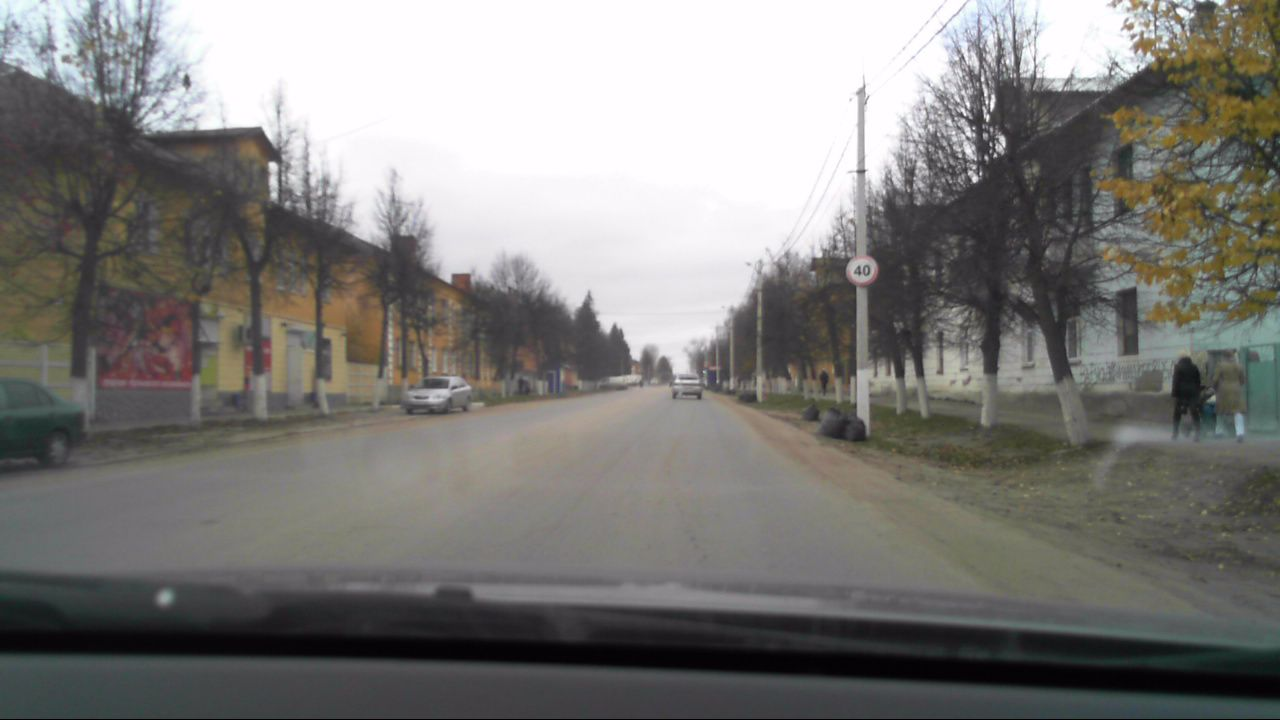speed_warning_40: (845, 254, 879, 286)
